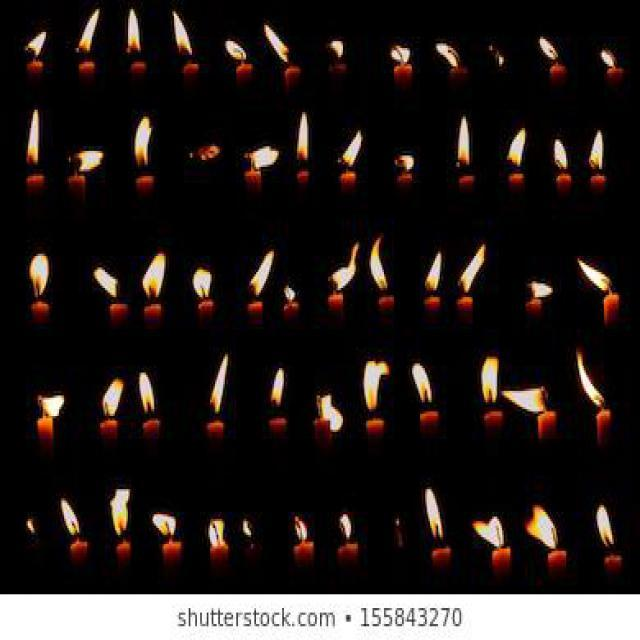Fire: (576, 352, 606, 407), (329, 241, 360, 294), (526, 504, 559, 550), (458, 243, 486, 296), (576, 255, 612, 294), (502, 386, 550, 414), (364, 360, 389, 413), (248, 249, 274, 297), (28, 251, 51, 304), (142, 254, 167, 302), (208, 355, 228, 415), (318, 394, 343, 436), (172, 9, 192, 60), (93, 265, 119, 304), (68, 147, 104, 175), (472, 516, 503, 548), (264, 23, 289, 62), (370, 236, 388, 290), (425, 486, 443, 540), (78, 8, 99, 54), (135, 116, 152, 172), (59, 497, 82, 538), (111, 489, 130, 537), (412, 362, 432, 406), (102, 377, 124, 416), (246, 145, 279, 170), (482, 356, 499, 404), (341, 130, 363, 167), (596, 503, 614, 548), (27, 110, 40, 171), (138, 372, 156, 414), (38, 391, 65, 418), (424, 252, 442, 292), (208, 518, 229, 552), (457, 116, 470, 170), (508, 128, 526, 167), (127, 8, 140, 61), (298, 112, 310, 167), (588, 129, 603, 173), (192, 268, 212, 300), (26, 31, 46, 63), (436, 44, 462, 68), (270, 368, 285, 409), (526, 280, 554, 301), (193, 142, 221, 162), (154, 513, 176, 538), (538, 36, 558, 62), (553, 136, 568, 170), (390, 42, 412, 65), (225, 39, 248, 60), (240, 518, 256, 543), (294, 515, 308, 543), (328, 38, 345, 61), (339, 512, 352, 542), (600, 50, 616, 70), (394, 154, 414, 170), (282, 283, 296, 304), (26, 516, 38, 540)
